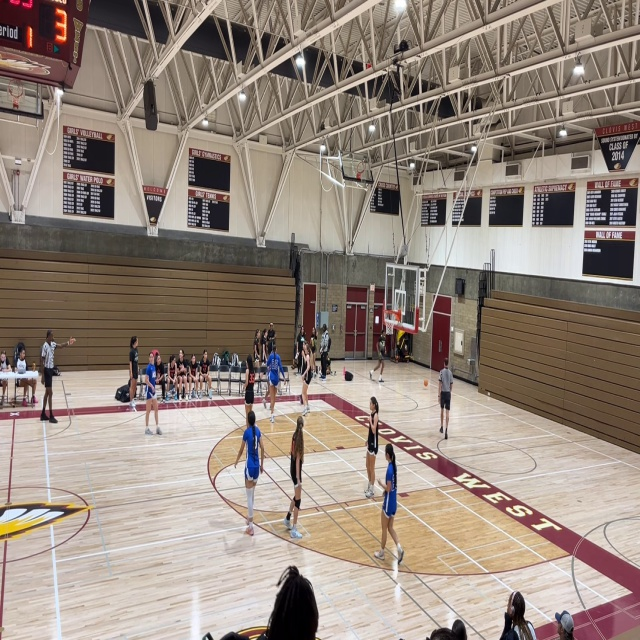Basketball: (423, 379, 428, 387)
